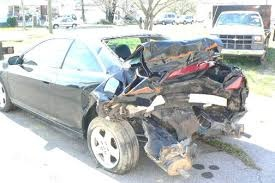Smashed: (84, 37, 249, 152)
